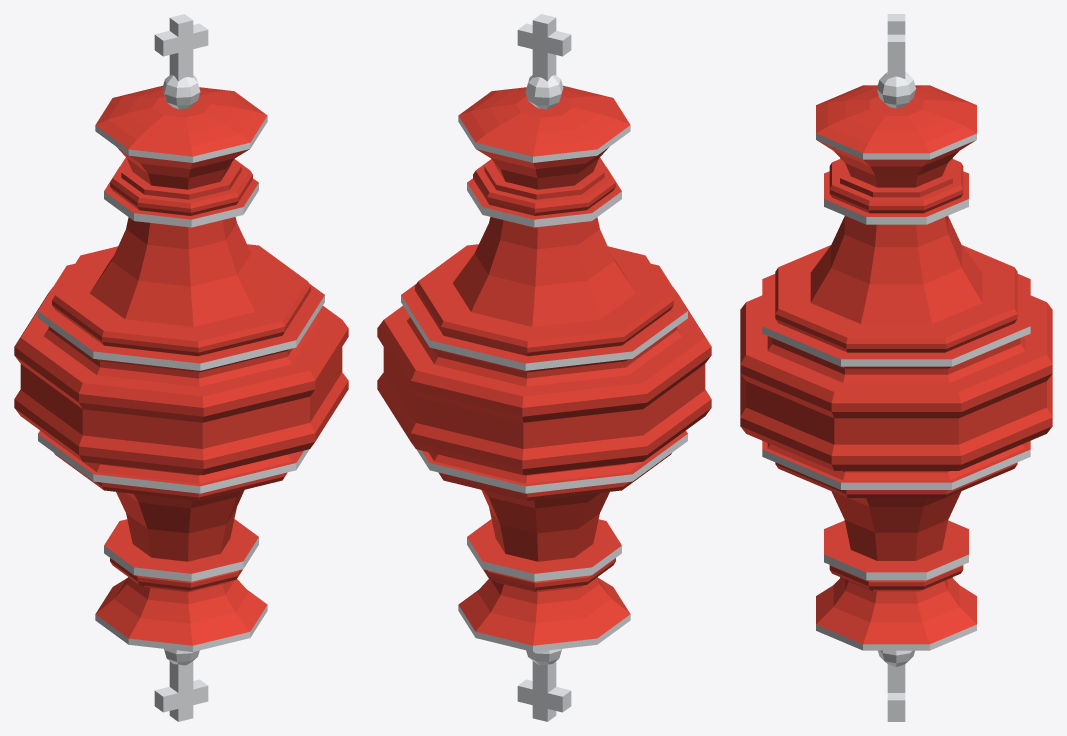
The model's file is king-faceted.glb.
The picture shows the model from 3 angles, left to right: view 1: azimuth 30°, elevation 25°; view 2: azimuth 150°, elevation 25°; view 3: azimuth 270°, elevation 25°; orthographic projection.
Parts seen in each view (by area): view 1: king-faceted; view 2: king-faceted; view 3: king-faceted.
Part boxes in pixels (x1,y1,x2,y2): king-faceted: (14, 14, 348, 721); king-faceted: (377, 14, 711, 721); king-faceted: (740, 14, 1052, 721).
Size of the model in its own units: 0.4626 by 1.14 by 0.4626.
